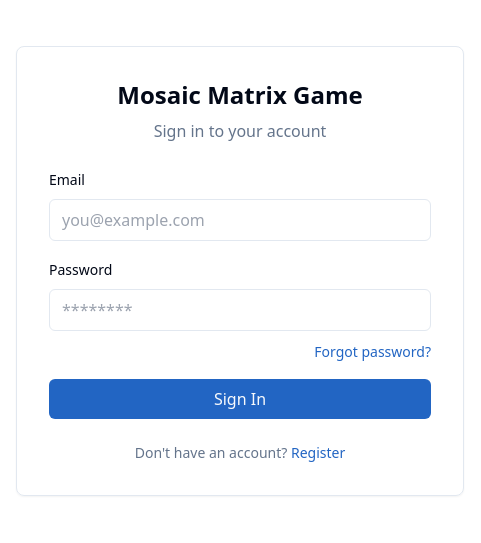
Test: Login Page › should display error on login failure
In the field labelled "Email": (240, 220) left=49, top=199, right=431, bottom=241, type "test@example.com"
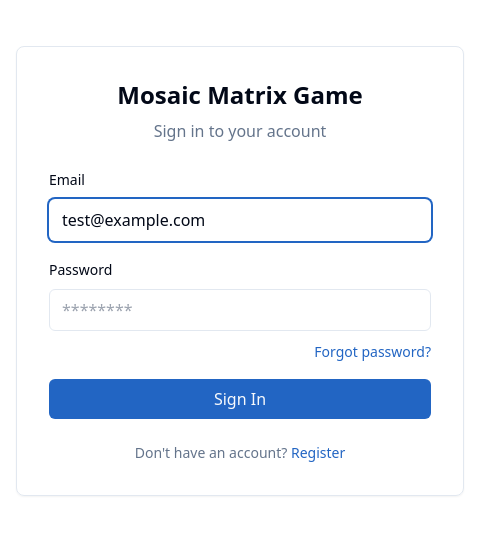
In the password field labelled "Password": (240, 310) left=49, top=289, right=431, bottom=331, type "wrongpassword"
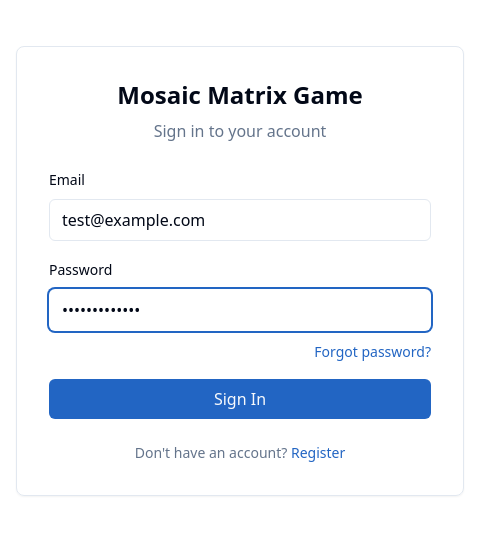
Click the button "Sign In": (240, 399) left=49, top=379, right=431, bottom=419
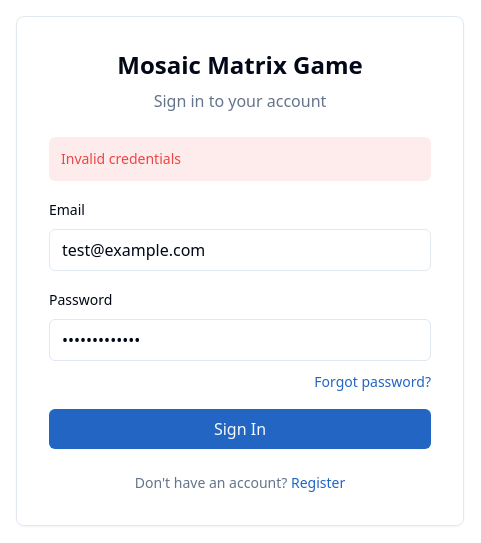
Now the text "Invalid credentials" is shown, box left=49, top=137, right=431, bottom=181
